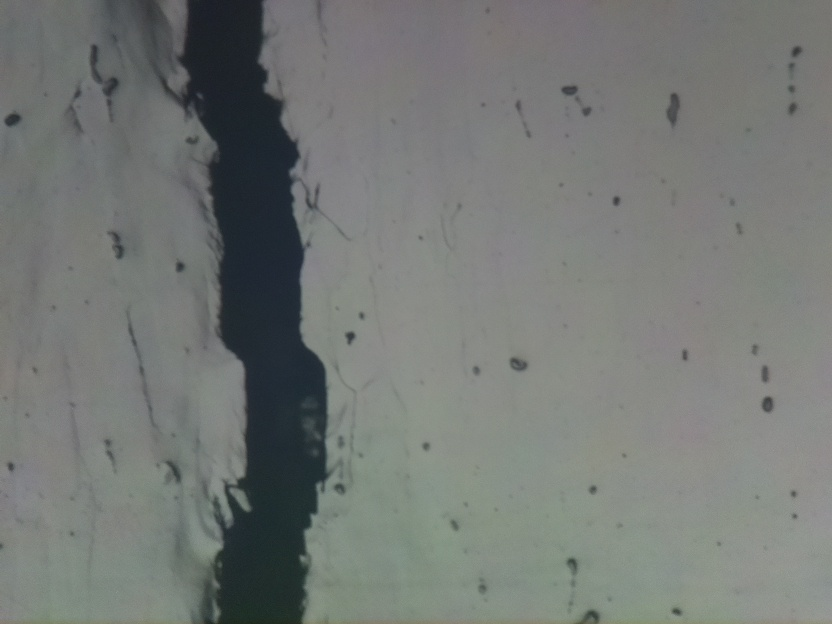crack: (180, 0, 330, 622)
